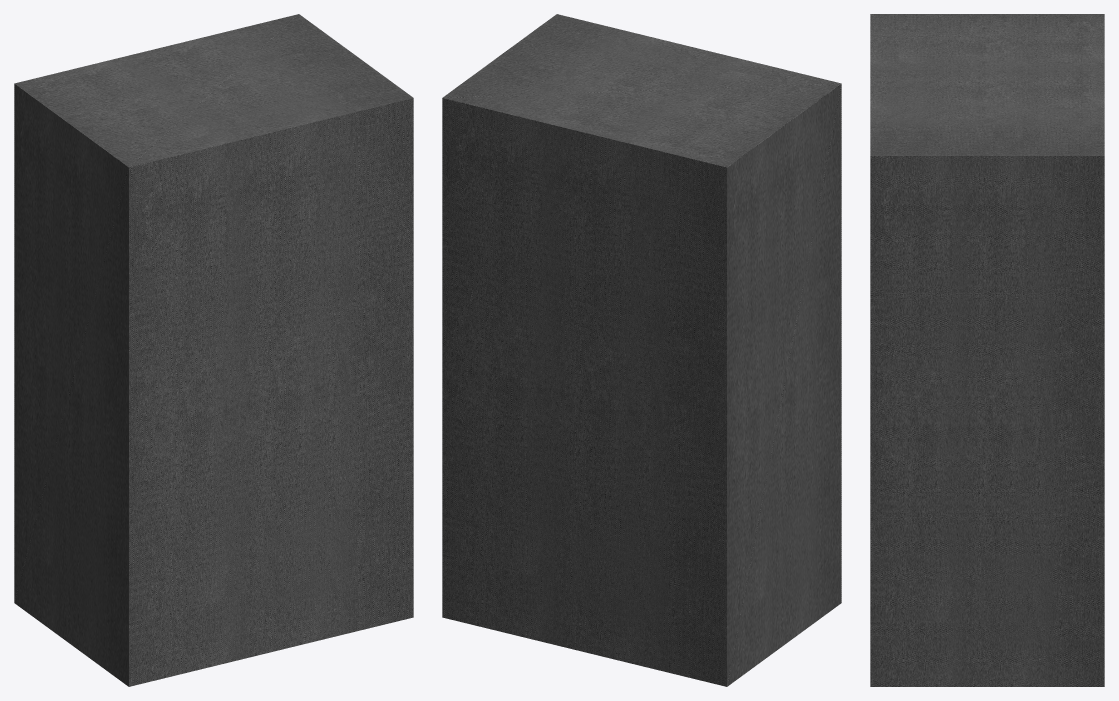
The picture shows the model from 3 angles, left to right: view 1: azimuth 30°, elevation 25°; view 2: azimuth 150°, elevation 25°; view 3: azimuth 270°, elevation 25°; orthographic projection. The views are drawn at different scales.
Parts seen in each view (by area): view 1: test; view 2: test; view 3: test.
Boxes of the visible parts, left/top/right/bottom form: test: left=14, top=14, right=413, bottom=686; test: left=442, top=14, right=841, bottom=686; test: left=870, top=14, right=1104, bottom=686.
Size of the model in its own units: 1.47 by 2.56 by 1.02.
1 material, 1 textured.
